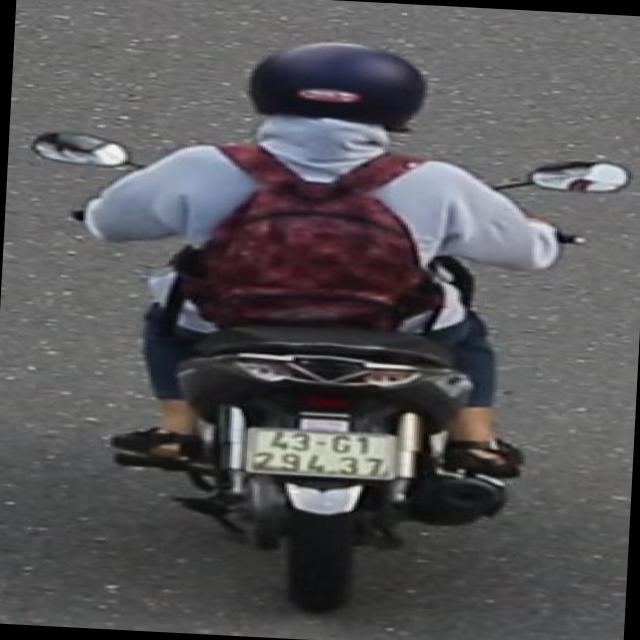LP: (234, 417, 413, 492)
helmet: (238, 32, 446, 158)
